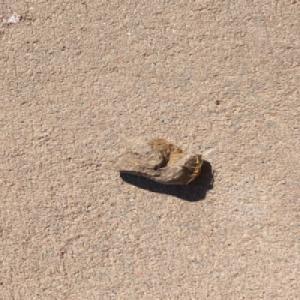Rock: (101, 136, 203, 186)
